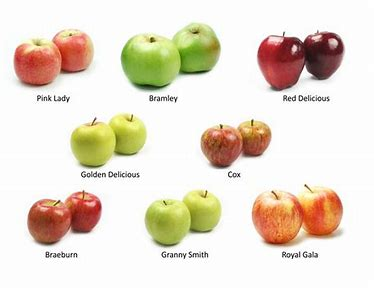inorganic: (4, 21, 103, 94), (254, 23, 348, 94), (251, 184, 352, 248), (123, 19, 220, 84), (69, 108, 159, 173), (149, 184, 226, 251), (24, 188, 107, 243), (200, 116, 276, 170)
